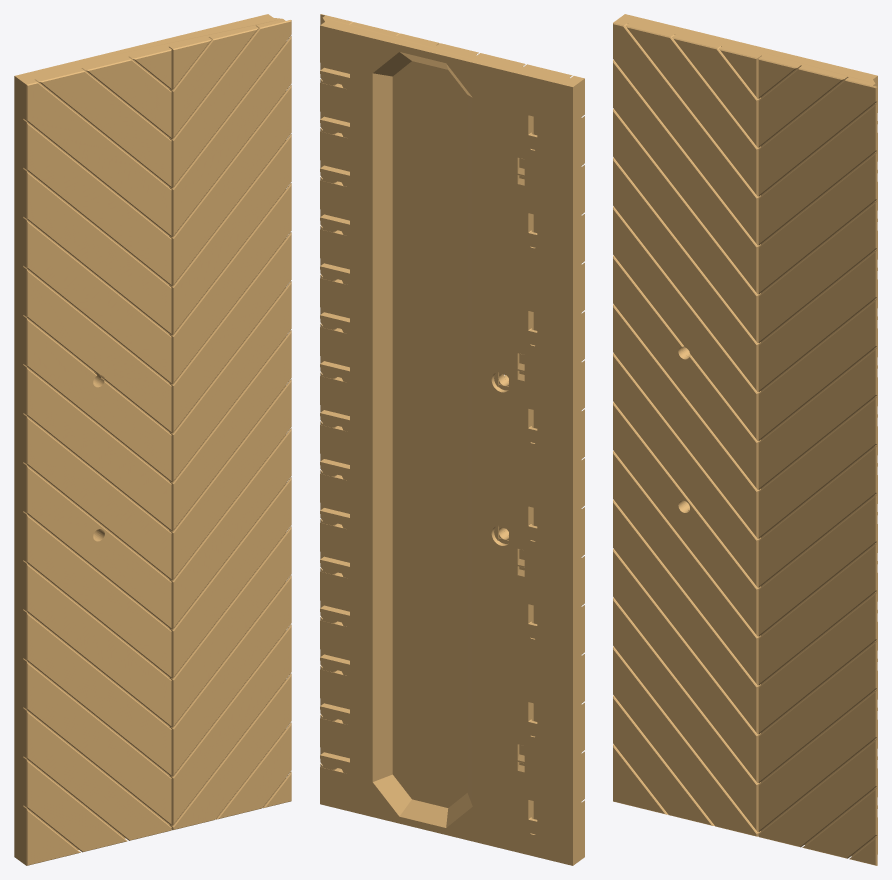
Rendered from Door_Chevron_1W-4H_RH.lib.glb.
3 renders of one model, left to right at view 1: azimuth 30°, elevation 25°; view 2: azimuth 150°, elevation 25°; view 3: azimuth 330°, elevation 25°, orthographic.
Visible parts, largest first — view 1: Door_Chevron_1W-4H_RH; view 2: Door_Chevron_1W-4H_RH; view 3: Door_Chevron_1W-4H_RH.
Boxes of the visible parts, x1,y1,x2,y2 form: Door_Chevron_1W-4H_RH: (14,14,291,865); Door_Chevron_1W-4H_RH: (320,14,584,865); Door_Chevron_1W-4H_RH: (613,14,877,865).
Bounding box in the file's own units: 79.14 × 223 × 6.51.
